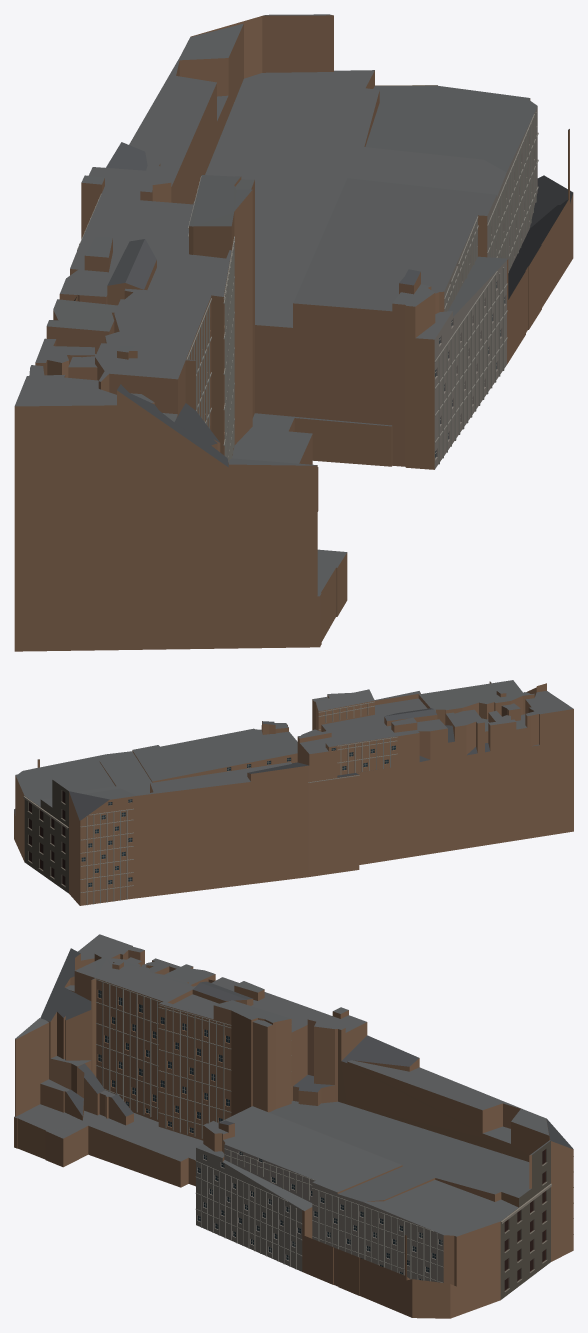
The model's file is recipe-large-warmoesstraat-garage-165687.glb.
3 renders of one model, top to bottom at view 1: azimuth 30°, elevation 25°; view 2: azimuth 150°, elevation 25°; view 3: azimuth 270°, elevation 25°, orthographic. The views are drawn at different scales.
Parts seen in each view (by area): view 1: warmoesstraat-garage-165687; view 2: warmoesstraat-garage-165687; view 3: warmoesstraat-garage-165687.
Boxes of the visible parts, x1,y1,x2,y2 form: warmoesstraat-garage-165687: (14,14,573,651); warmoesstraat-garage-165687: (14,680,573,905); warmoesstraat-garage-165687: (14,934,573,1318).
Bounding box in the file's own units: 100 × 32.46 × 99.34.
